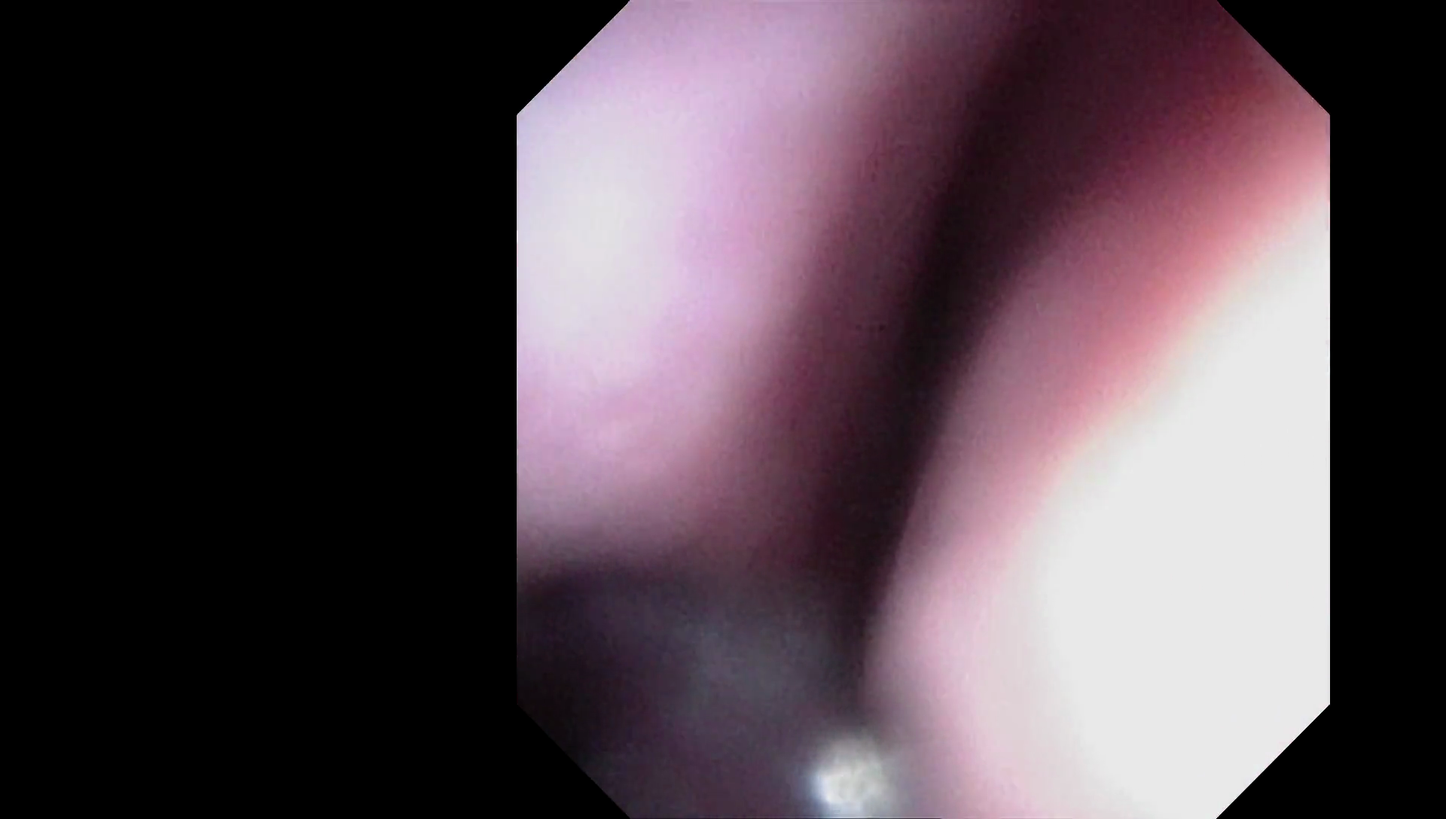close_wall: (971, 224, 1321, 700), (532, 107, 853, 394)
next: (789, 235, 1007, 648), (876, 57, 1056, 388)
